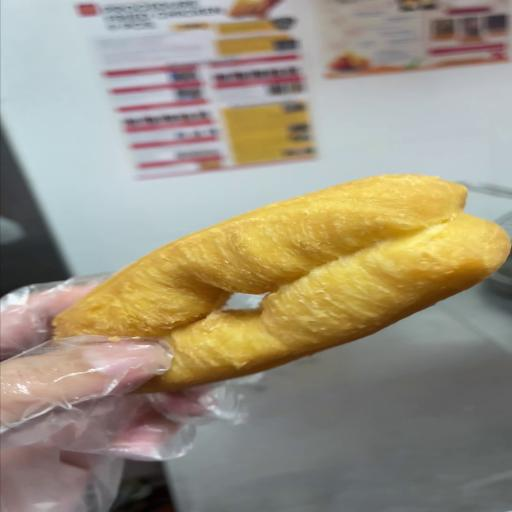brand_golden_defect: (54, 175, 510, 392)
